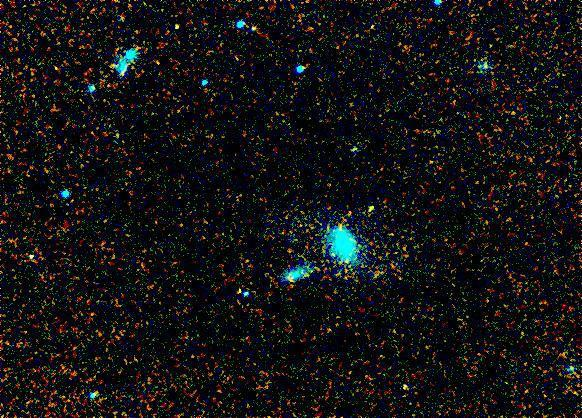star: (357, 190, 387, 220)
